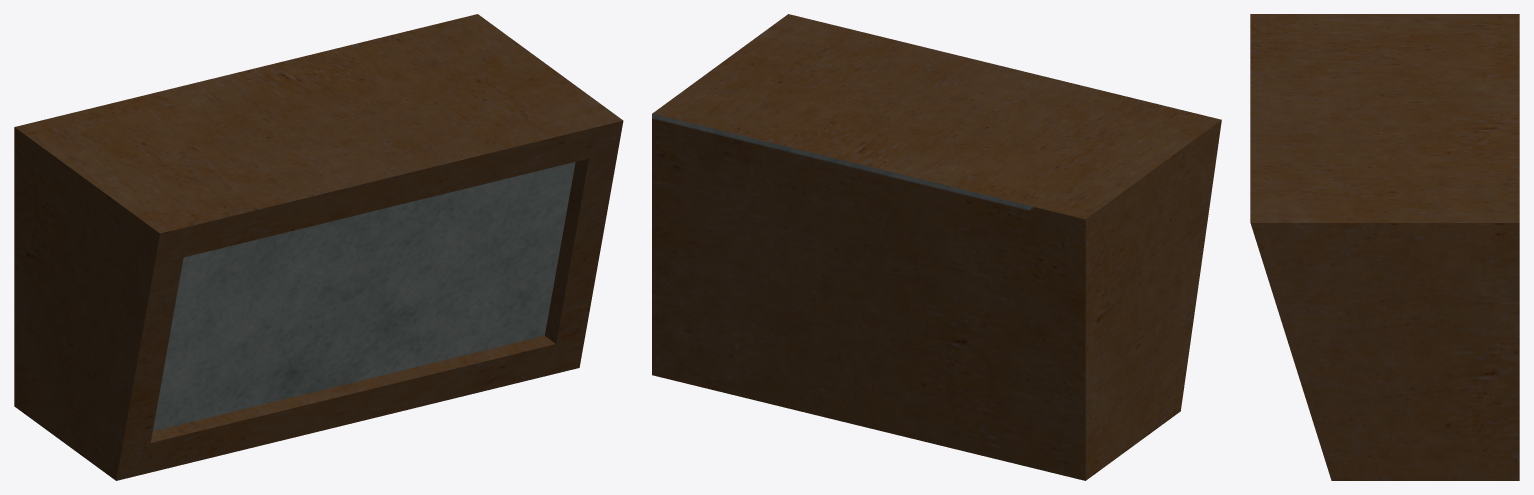
Rendered from Speaker.fbx.
3 views of the same model, side by side, from view 1: azimuth 30°, elevation 25°; view 2: azimuth 150°, elevation 25°; view 3: azimuth 270°, elevation 25° (orthographic). The views are drawn at different scales.
Visible parts, largest first — view 1: Speaker; view 2: Speaker; view 3: Speaker.
Boxes of the visible parts, bbox=[...] form: Speaker: bbox=[14, 14, 623, 480]; Speaker: bbox=[652, 14, 1221, 480]; Speaker: bbox=[1250, 14, 1519, 480].
Bounding box in the file's own units: 0.36 × 0.2075 × 0.196.
